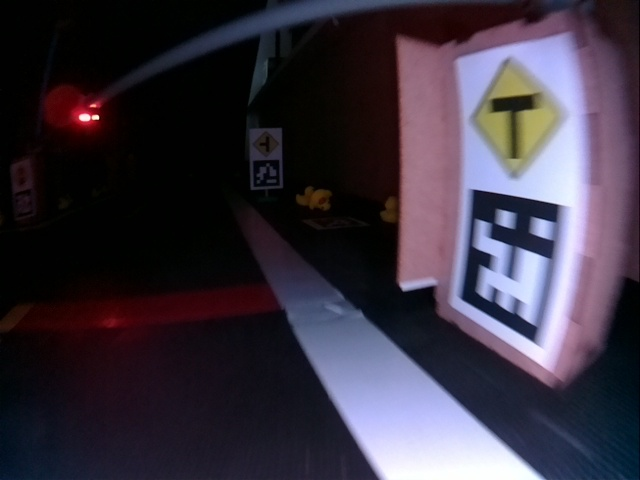Duckie: (380, 197, 398, 222), (309, 191, 332, 208), (295, 187, 314, 204)
Intersection sign: (469, 60, 569, 179), (253, 132, 279, 155)
QR code: (463, 187, 566, 345), (305, 214, 366, 229), (254, 161, 281, 189)
Signal sign: (13, 165, 30, 186)
Traffic light: (77, 102, 99, 126)
